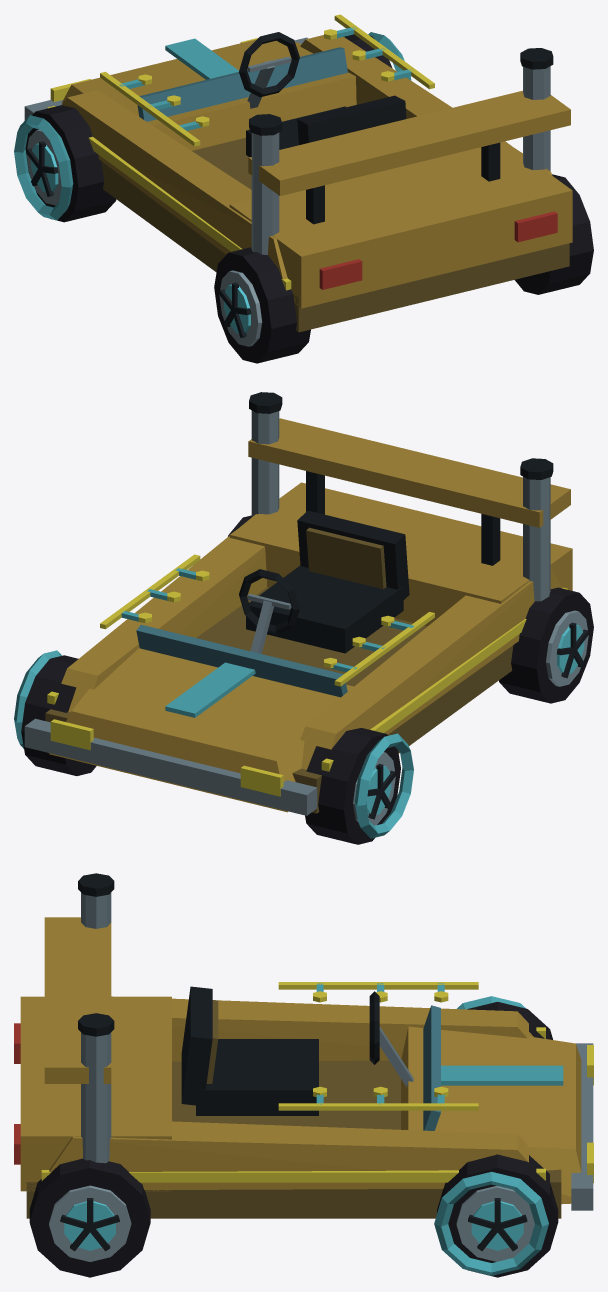
The model's file is kart.glb.
3 views of the same model, one above another, from view 1: azimuth 30°, elevation 25°; view 2: azimuth 150°, elevation 25°; view 3: azimuth 270°, elevation 25° (orthographic). The views are drawn at different scales.
Visible parts, largest first — view 1: identity-sports-car-sports-car-road-car-body, wheel-rear-left, wheel-front-left, identity-sports-car-motif-exhaust, identity-sports-car-driver-cockpit, identity-sports-car-motif-neon, identity-sports-car-motif-circuit, wheel-rear-right; view 2: identity-sports-car-sports-car-road-car-body, identity-sports-car-driver-cockpit, wheel-rear-left, wheel-front-left, identity-sports-car-motif-exhaust, identity-sports-car-motif-neon, identity-sports-car-motif-circuit, wheel-front-right; view 3: identity-sports-car-sports-car-road-car-body, identity-sports-car-driver-cockpit, wheel-rear-right, identity-sports-car-motif-neon, wheel-front-right, identity-sports-car-motif-exhaust, identity-sports-car-motif-circuit, wheel-front-left.
Boxes of the visible parts, x1,y1,x2,y2 form: identity-sports-car-sports-car-road-car-body: (24, 32, 572, 332); wheel-rear-left: (214, 247, 310, 363); wheel-front-left: (25, 105, 116, 222); identity-sports-car-motif-exhaust: (249, 48, 553, 254); identity-sports-car-driver-cockpit: (239, 32, 406, 157); identity-sports-car-motif-neon: (14, 32, 411, 290); identity-sports-car-motif-circuit: (100, 14, 434, 146); wheel-rear-right: (515, 174, 593, 294); identity-sports-car-sports-car-road-car-body: (24, 418, 572, 815); identity-sports-car-driver-cockpit: (239, 510, 409, 653); wheel-rear-left: (499, 587, 593, 703); wheel-front-left: (305, 728, 400, 844); identity-sports-car-motif-exhaust: (249, 392, 553, 601); identity-sports-car-motif-neon: (14, 587, 567, 838); identity-sports-car-motif-circuit: (100, 554, 434, 686); wheel-front-right: (21, 655, 96, 775); identity-sports-car-sports-car-road-car-body: (14, 917, 593, 1218); identity-sports-car-driver-cockpit: (181, 986, 413, 1115); wheel-rear-right: (29, 1158, 150, 1277); identity-sports-car-motif-neon: (41, 996, 548, 1275); wheel-front-right: (437, 1154, 558, 1277); identity-sports-car-motif-exhaust: (78, 873, 114, 1163); identity-sports-car-motif-circuit: (278, 982, 478, 1110); wheel-front-left: (467, 1001, 552, 1039).
Size of the model in its own units: 2.13 by 1.33 by 2.88.
